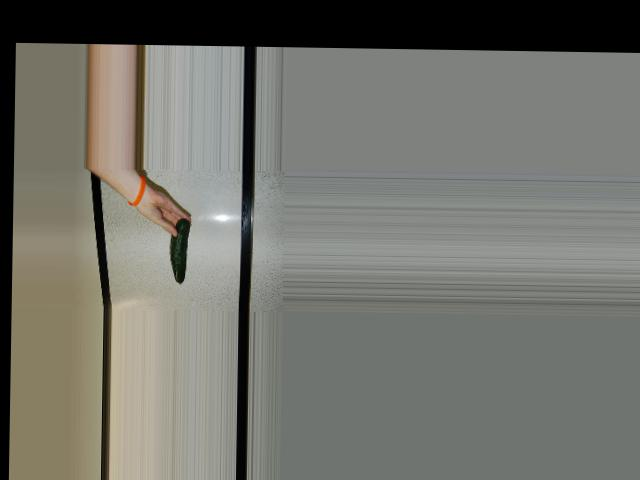cucumber: (170, 217, 190, 284)
